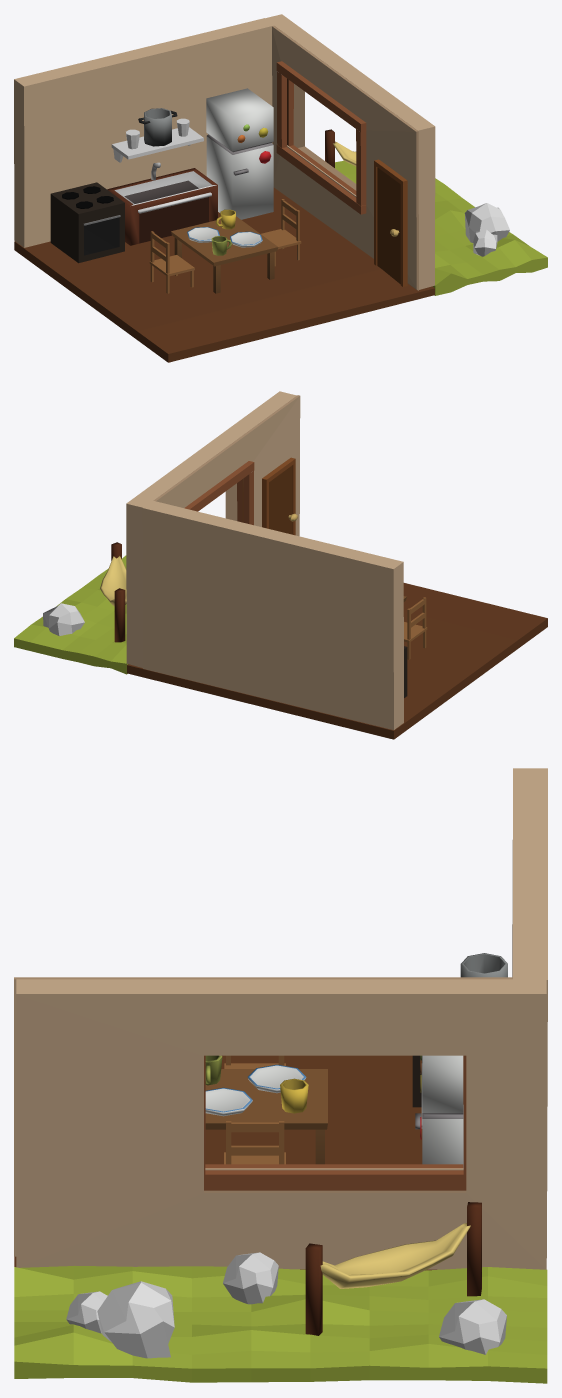
The model's file is Cozinha.fbx.
3 renders of one model, top to bottom at view 1: azimuth 30°, elevation 25°; view 2: azimuth 150°, elevation 25°; view 3: azimuth 270°, elevation 25°, orthographic. The views are drawn at different scales.
Visible parts, largest first — view 1: Paredes, Geladeira, Pia, Fogao, Porta, Mesa, Arbustos, CadeiraDaEsquerda, Prateleira, Panela, CadeiraDaDireita, Rede (+1 smaller); view 2: Paredes, Porta, Rede, Arbustos, CadeiraDaEsquerda; view 3: Paredes, Arbustos, Rede, Geladeira, Mesa, CadeiraDaDireita, PratoAzul, Panela, PratoAzuis, XicaraAmarela.
Part boxes in pixels (x1,y1,x2,y2): Paredes: (14, 14, 547, 362); Geladeira: (206, 88, 273, 219); Pia: (107, 162, 217, 245); Fogao: (50, 182, 124, 263); Porta: (374, 159, 407, 286); Mesa: (171, 216, 278, 293); Arbustos: (464, 203, 509, 256); CadeiraDaEsquerda: (149, 231, 194, 293); Prateleira: (111, 127, 203, 162); Panela: (138, 108, 177, 146); CadeiraDaDireita: (261, 199, 301, 266); Rede: (325, 129, 356, 167); Paredes: (14, 391, 547, 739); Porta: (262, 457, 297, 535); Rede: (100, 542, 126, 642); Arbustos: (43, 603, 84, 636); CadeiraDaEsquerda: (404, 597, 427, 659); Paredes: (14, 768, 547, 1383); Arbustos: (66, 1252, 506, 1358); Rede: (305, 1202, 481, 1335); Geladeira: (415, 1055, 463, 1164); Mesa: (205, 1069, 327, 1164); CadeiraDaDireita: (224, 1121, 285, 1164); PratoAzul: (205, 1087, 252, 1116); Panela: (460, 953, 507, 977); PratoAzuis: (247, 1064, 306, 1093); XicaraAmarela: (280, 1078, 308, 1113).
Size of the model in its own units: 2451 by 1051 by 1724.
